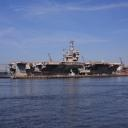Portanaves: (10, 39, 123, 81)
